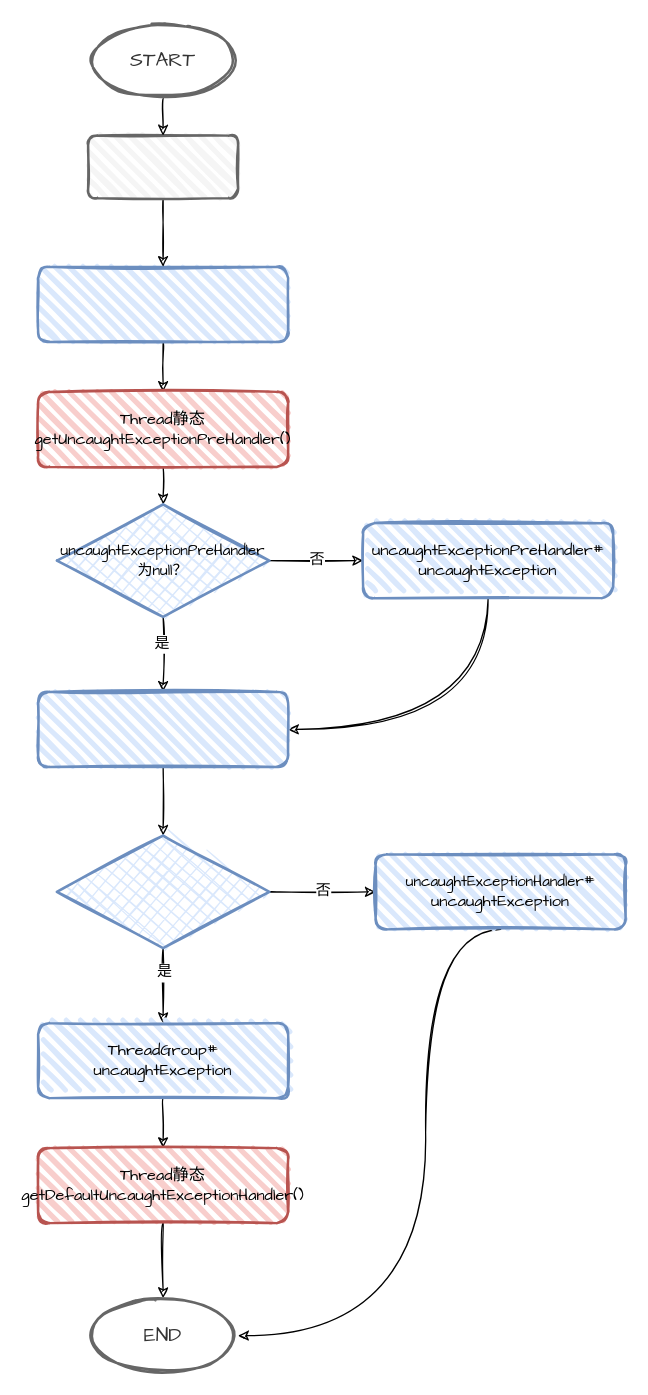
This 648x1395 diagram has some shape labels left out. The shapes that lost their labels are listed below. From the top down, each one's centre as x and y in pixels, then its label:
At point 162,166: "异常发生".
At point 162,303: "Thread# dispatchUncaughtException()".
At point 162,729: "Thread# getUncaughtExceptionHandler()".
At point 162,891: "uncaughtExceptionHandler为null？".
